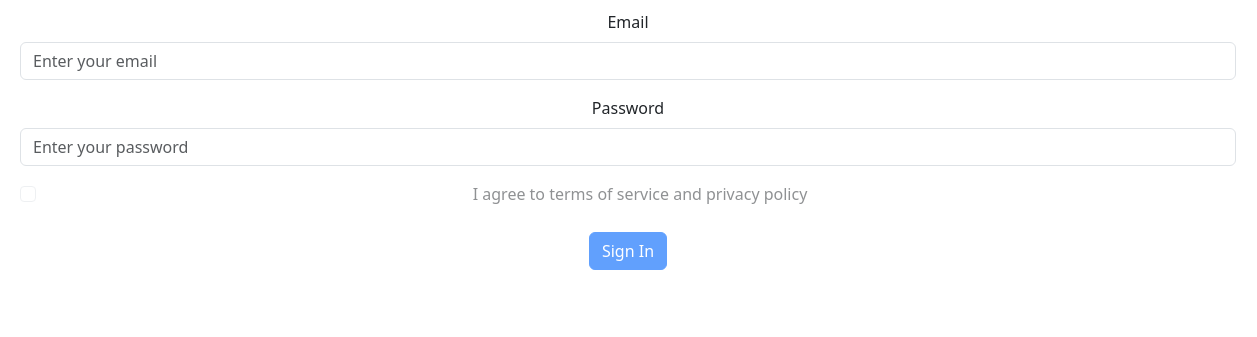
Başarısız Submit › Yanlış email ve şifre girdim
The width and height of the screenshot is (1257, 337).
Type "test@tester" into the field with test id "email" at [628, 61], box [20,42,1236,80]
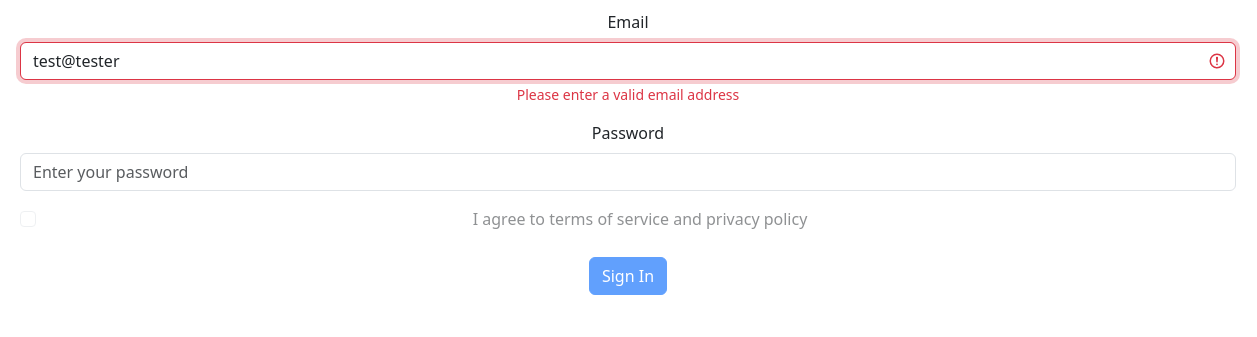
Type "123456" into the password field with test id "password" at [628, 172], box [20,153,1236,191]
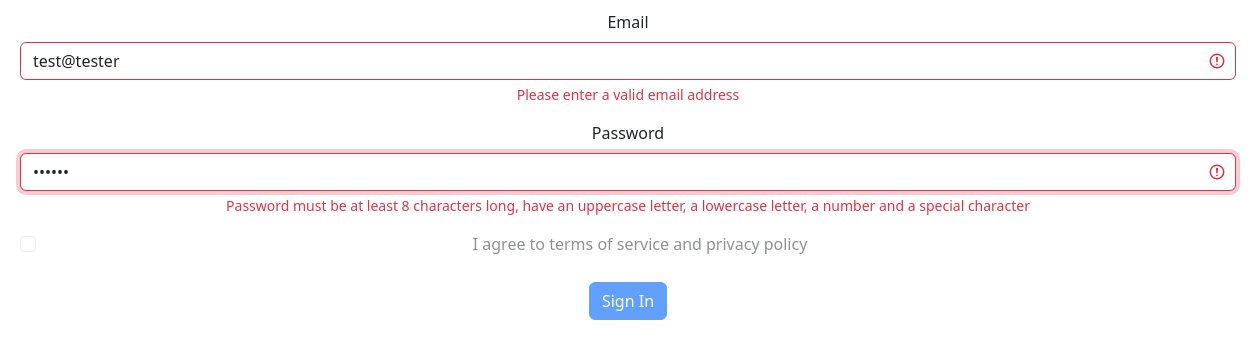
Check: the text "Please enter a valid email address" is shown, box [517,85,739,104]
Check: the text "Password must be at least 8 characters long, have an uppercase letter, a lowercase letter, a number and a special charac" is shown, box [226,196,1030,215]
